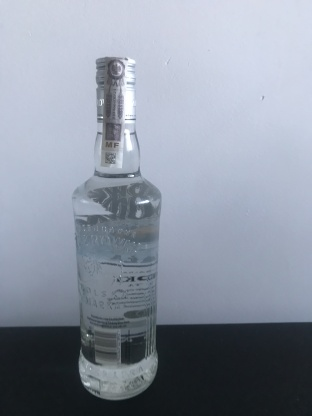nakretka: (93, 53, 139, 126)
